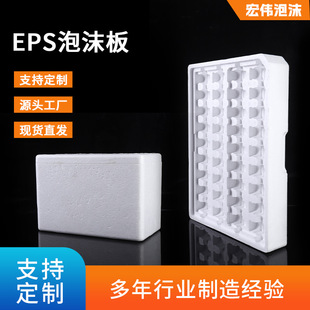泡沫箱: (188, 54, 288, 252), (36, 153, 161, 240)
